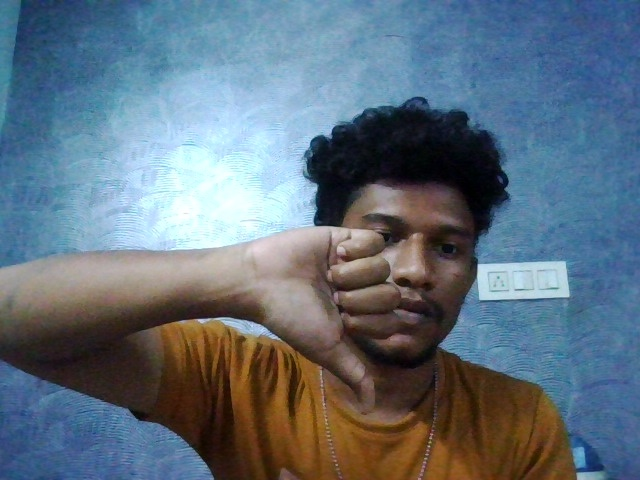no: (213, 206, 410, 424)
